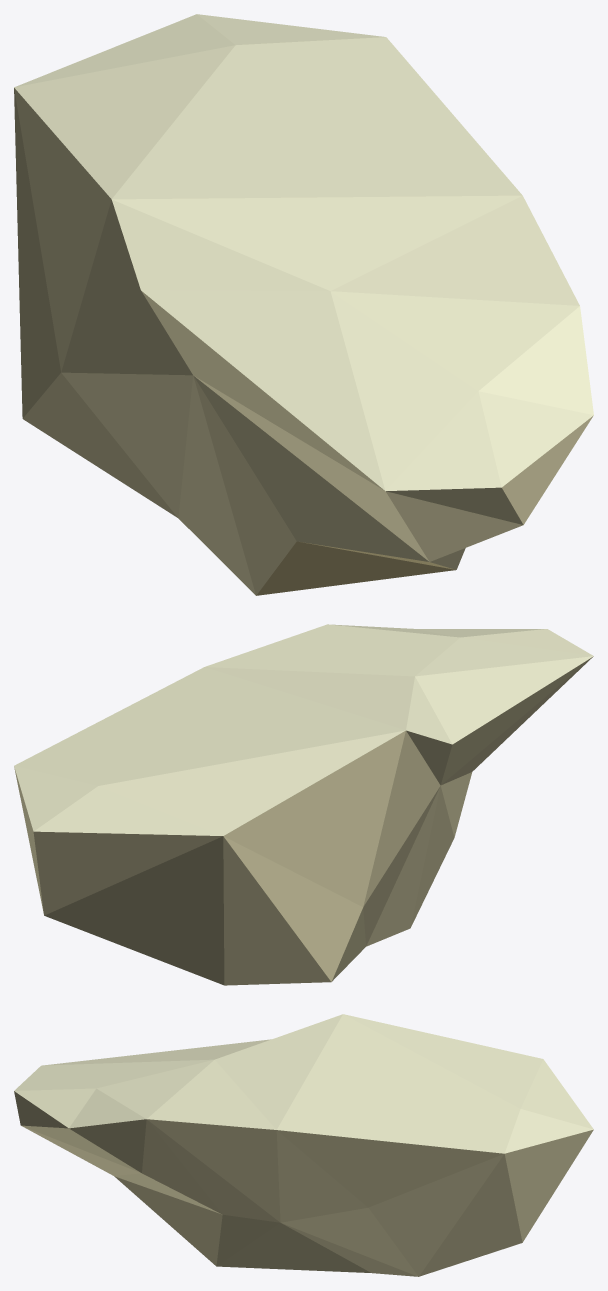
File: SM_FlatRock_big.fbx
3 renders of one model, top to bottom at view 1: azimuth 30°, elevation 25°; view 2: azimuth 150°, elevation 25°; view 3: azimuth 270°, elevation 25°, orthographic. The views are drawn at different scales.
Parts seen in each view (by area): view 1: SM_FlatRock_big; view 2: SM_FlatRock_big; view 3: SM_FlatRock_big.
Part boxes in pixels (bbox=[...]): SM_FlatRock_big: bbox=[14, 14, 593, 595]; SM_FlatRock_big: bbox=[14, 624, 593, 985]; SM_FlatRock_big: bbox=[14, 1014, 593, 1276].
Size of the model in its own units: 60.77 by 47.32 by 125.
